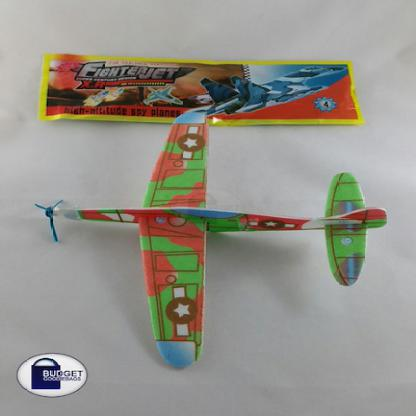CIV_Plane: (28, 109, 389, 378)
